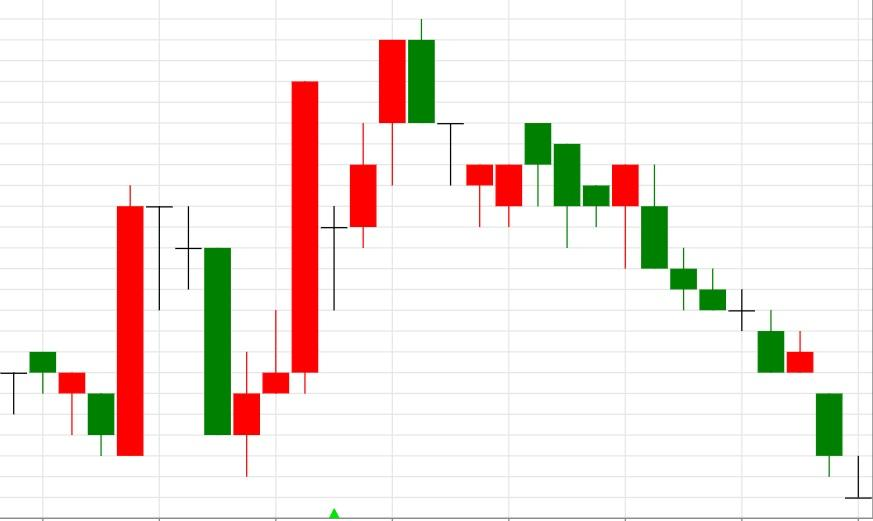bullish_engulfing_rise: (28, 185, 144, 456), (524, 122, 640, 270)
three_white_soldiers_rise: (145, 81, 318, 477)
